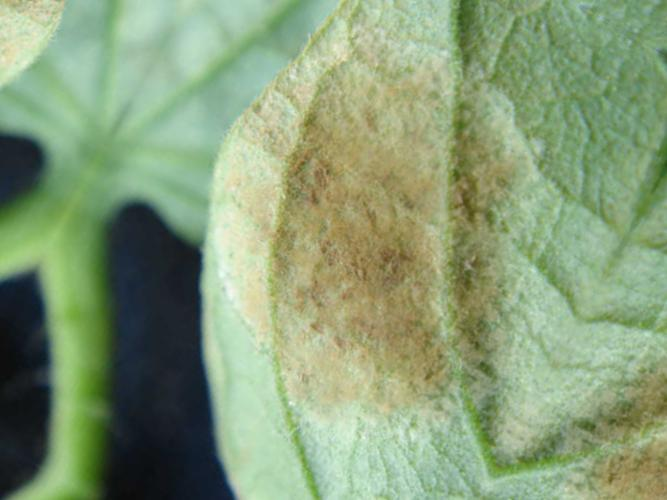Tomato mold leaf: (9, 0, 667, 500)
